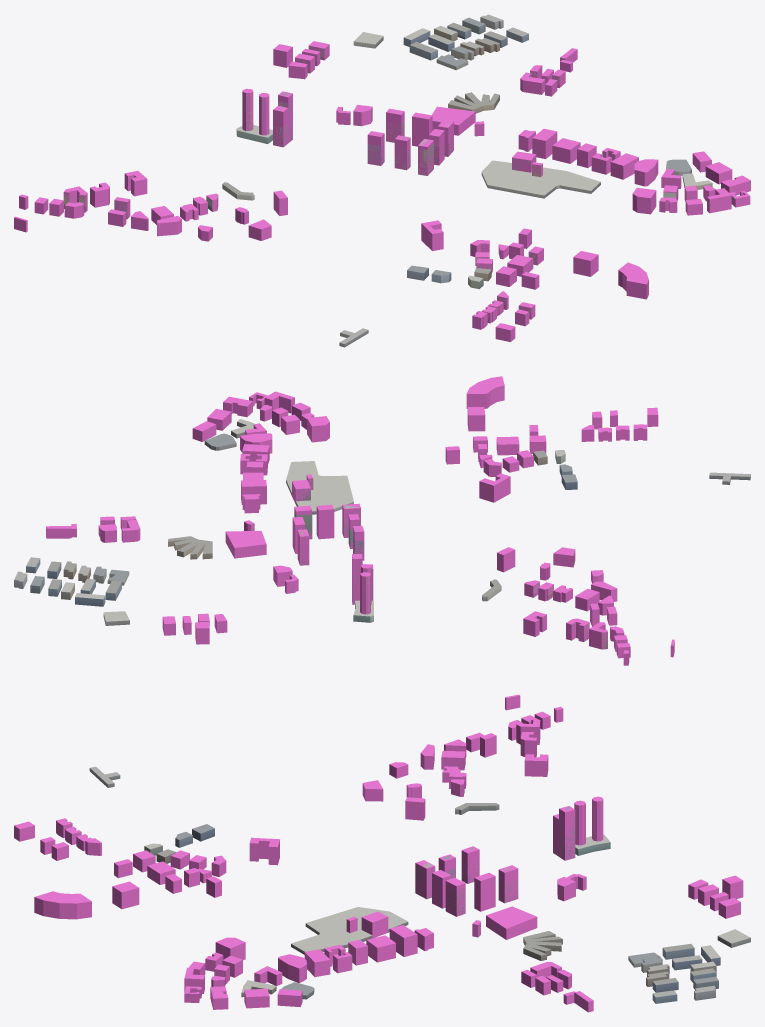
Rendered from bld_17_4.fbx.
3 renders of one model, top to bottom at view 1: azimuth 30°, elevation 25°; view 2: azimuth 150°, elevation 25°; view 3: azimuth 270°, elevation 25°, orthographic. The views are drawn at different scales.
Visible parts, largest first — view 1: bld_17_4_COL, bld_17_4_LOD0; view 2: bld_17_4_COL, bld_17_4_LOD0; view 3: bld_17_4_COL, bld_17_4_LOD0.
Boxes of the visible parts, bbox=[...] form: bld_17_4_COL: bbox=[14, 41, 750, 341]; bld_17_4_LOD0: bbox=[63, 14, 735, 347]; bld_17_4_COL: bbox=[46, 376, 674, 665]; bld_17_4_LOD0: bbox=[14, 400, 750, 649]; bld_17_4_COL: bbox=[14, 694, 743, 1012]; bld_17_4_LOD0: bbox=[76, 766, 750, 1003].
Size of what is drawn, in the model's own units: 1962 by 145 by 1997.
